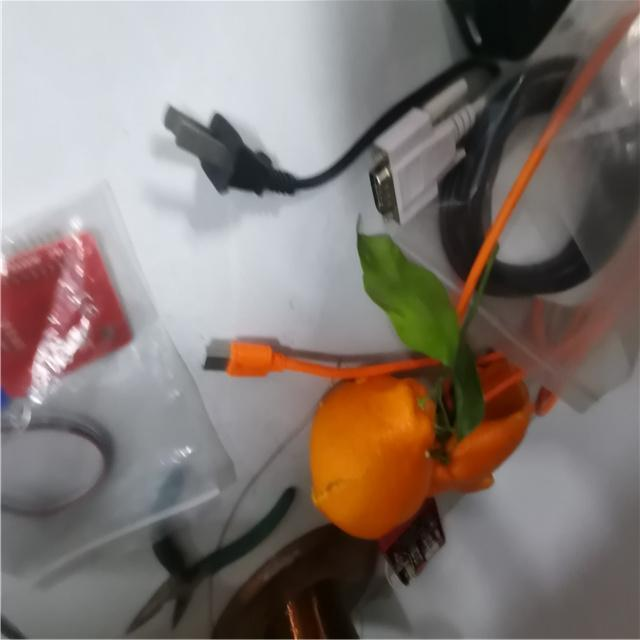orange peel: (305, 372, 441, 540), (419, 360, 524, 510)
